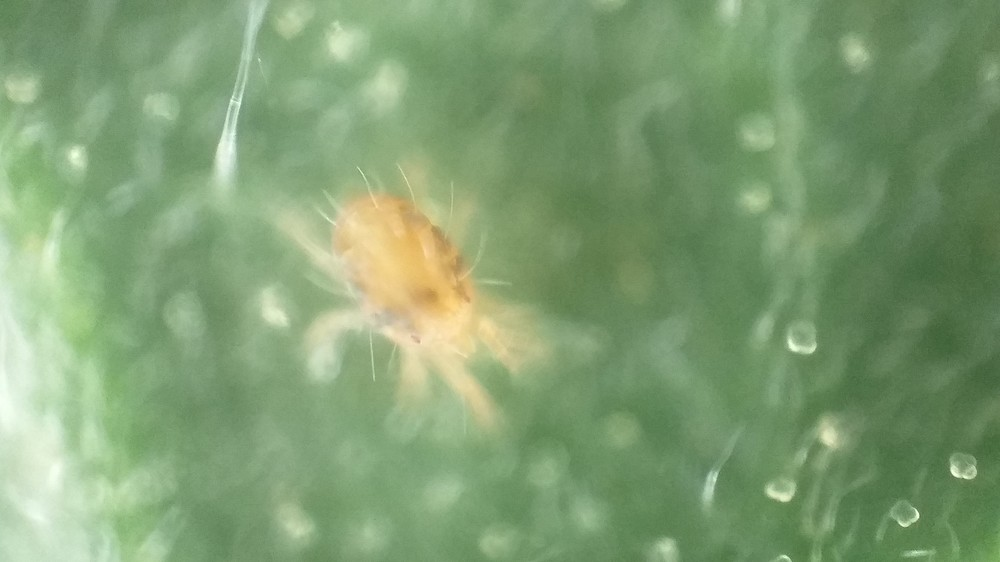Aracnido Rojo: (256, 156, 566, 458)
